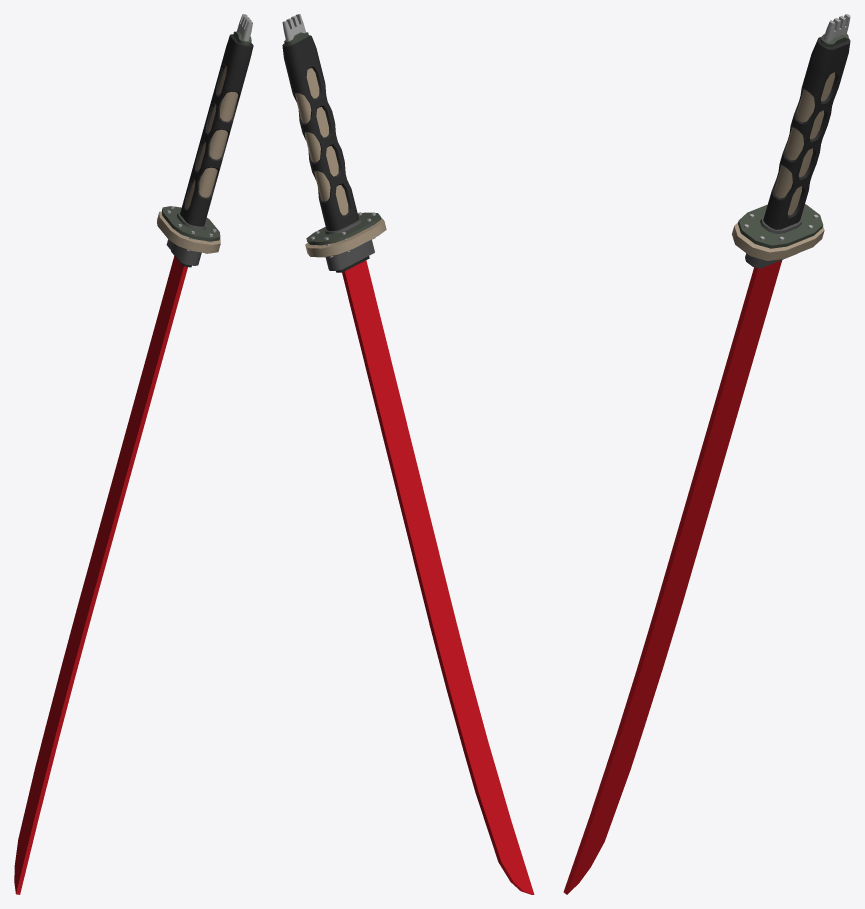
The model's file is animDriver.fbx.
3 views of the same model, side by side, from view 1: azimuth 30°, elevation 25°; view 2: azimuth 150°, elevation 25°; view 3: azimuth 330°, elevation 25° (orthographic). The views are drawn at different scales.
Parts seen in each view (by area): view 1: meshNemKatana; view 2: meshNemKatana; view 3: meshNemKatana.
Boxes of the visible parts, x1,y1,x2,y2 form: meshNemKatana: (14,14,253,894); meshNemKatana: (282,14,534,894); meshNemKatana: (563,14,850,894).
Size of the model in its own units: 0.5459 by 1.77 by 0.178.
